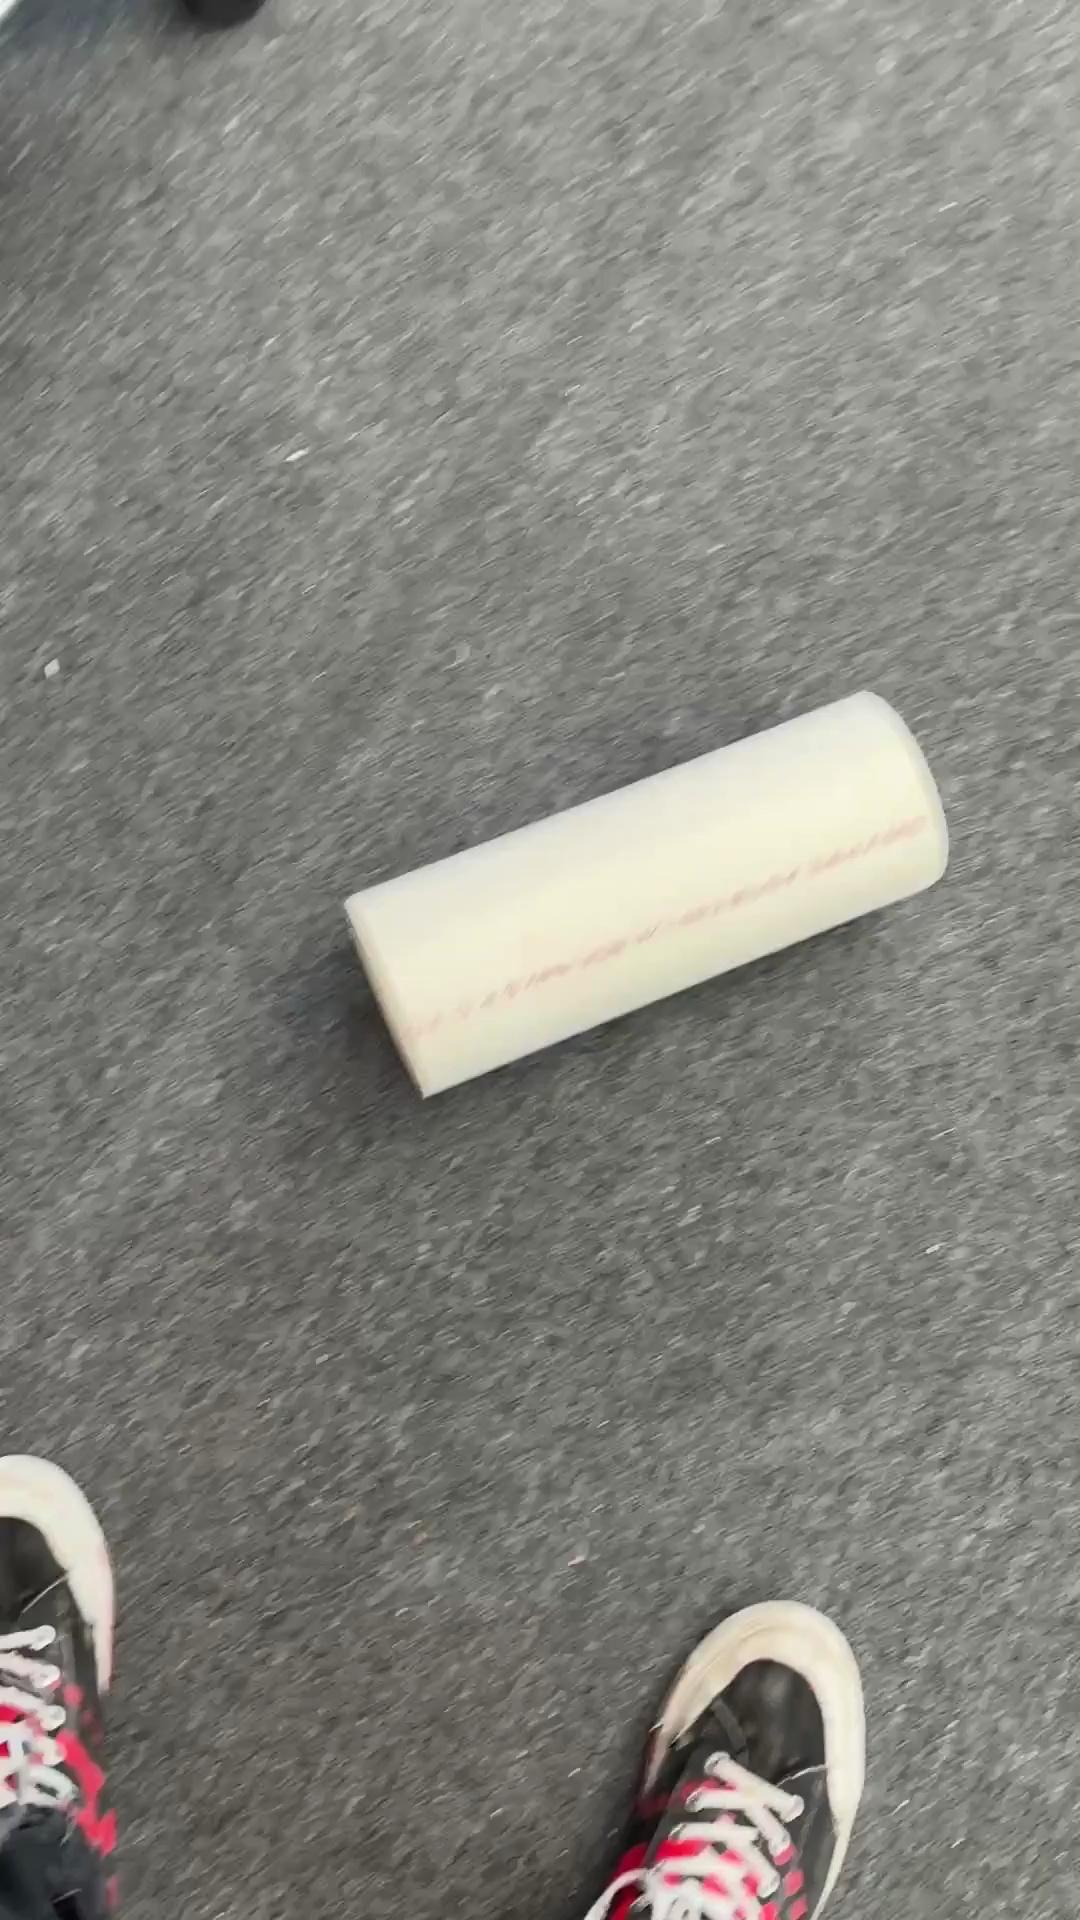CORAL: (340, 686, 949, 1101)
